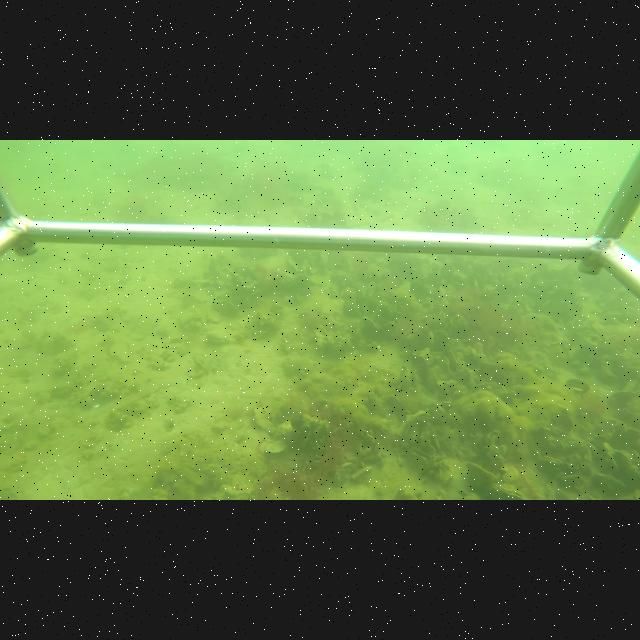Oyster-Closed: (253, 406, 277, 437), (594, 470, 629, 491), (491, 483, 528, 500), (484, 445, 505, 473), (537, 455, 569, 471), (357, 429, 380, 445), (362, 317, 378, 335)
Oyster-Open: (407, 446, 438, 474), (421, 431, 443, 455), (442, 350, 461, 376), (565, 378, 593, 393)
